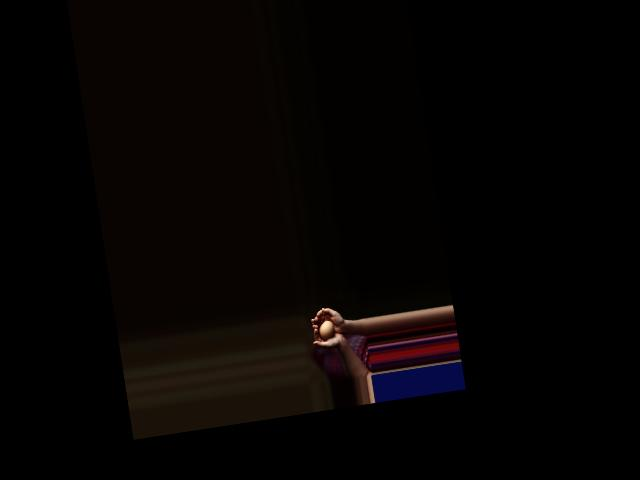egg: (317, 320, 335, 340)
